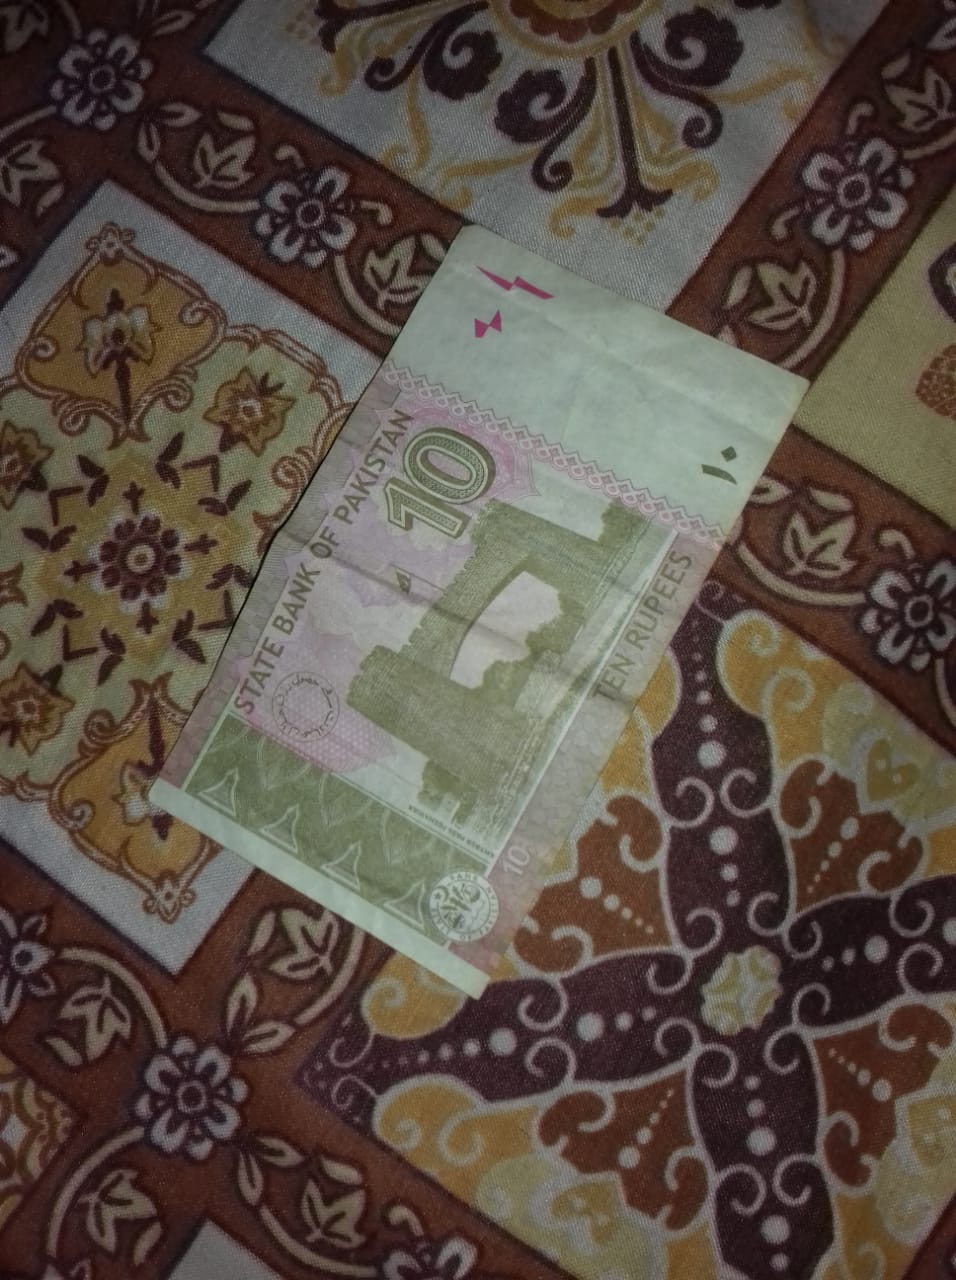10 rupee: (140, 218, 810, 1005)
